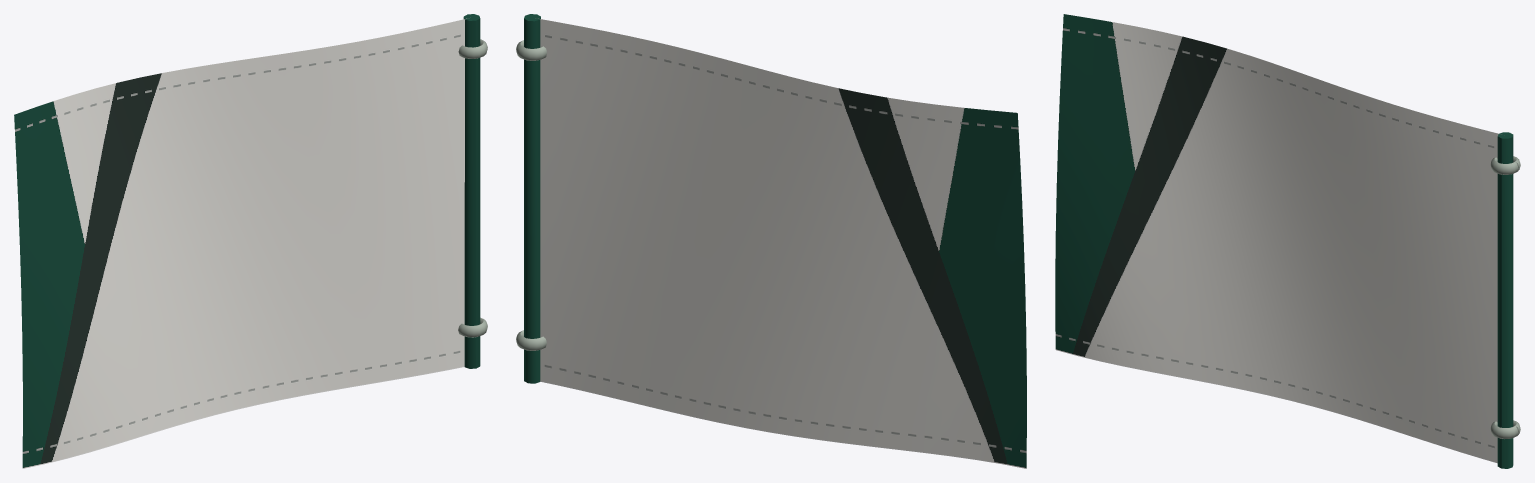
File: Pennant_05_N_深緑・白縁.glb
3 renders of one model, left to right at view 1: azimuth 30°, elevation 25°; view 2: azimuth 150°, elevation 25°; view 3: azimuth 330°, elevation 25°, orthographic. The views are drawn at different scales.
Parts seen in each view (by area): view 1: Pennant_05_N; view 2: Pennant_05_N; view 3: Pennant_05_N.
Part boxes in pixels (x1,y1,x2,y2): Pennant_05_N: [14, 14, 487, 468]; Pennant_05_N: [516, 14, 1026, 468]; Pennant_05_N: [1055, 14, 1520, 468].
Bounding box in the file's own units: 0.2575 × 0.1895 × 0.0198.
3 materials, 3 textured.
